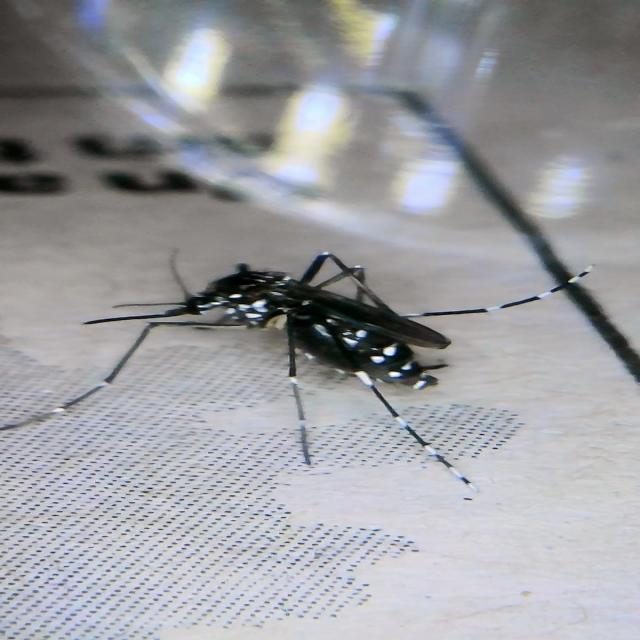albopictus: (53, 230, 609, 486)
